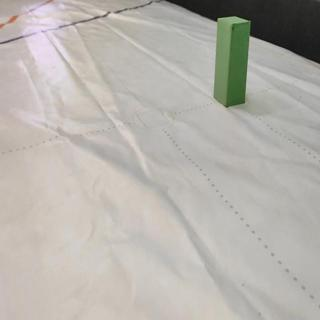greenbox: (212, 15, 251, 109)
